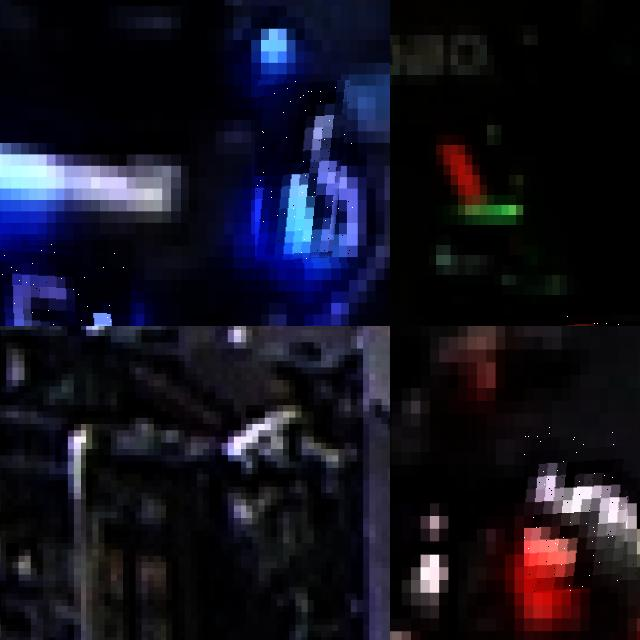B5: (255, 80, 354, 263), (0, 239, 131, 326)
R5: (524, 426, 637, 593)
